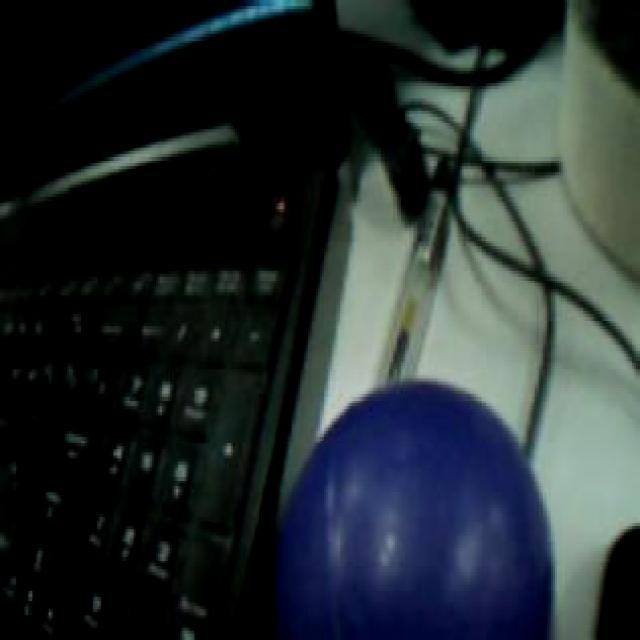BallPurple: (276, 381, 554, 640)
